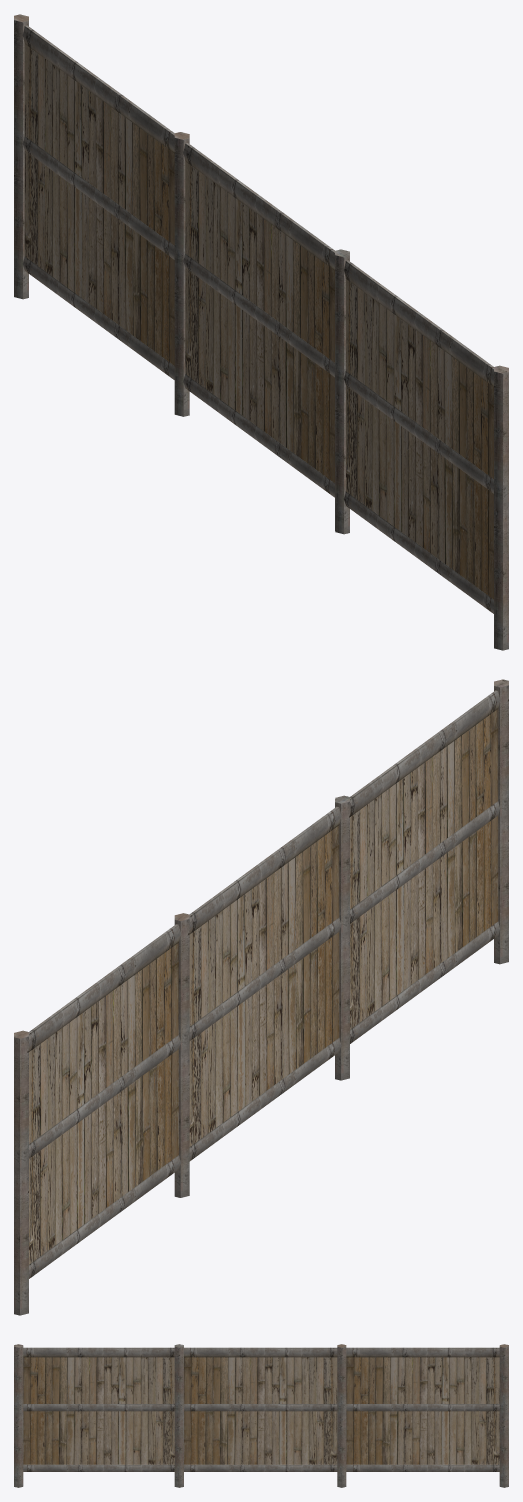
Rendered from BambooFence01c.fbx.
3 renders of one model, top to bottom at view 1: azimuth 30°, elevation 25°; view 2: azimuth 150°, elevation 25°; view 3: azimuth 270°, elevation 25°, orthographic. The views are drawn at different scales.
Visible parts, largest first — view 1: BambooFence01c; view 2: BambooFence01c; view 3: BambooFence01c.
Part boxes in pixels (x1,y1,x2,y2): BambooFence01c: (14, 14, 508, 650); BambooFence01c: (14, 679, 508, 1315); BambooFence01c: (14, 1344, 508, 1487).
Size of the model in its own units: 0.0655 by 1.17 by 3.74.
